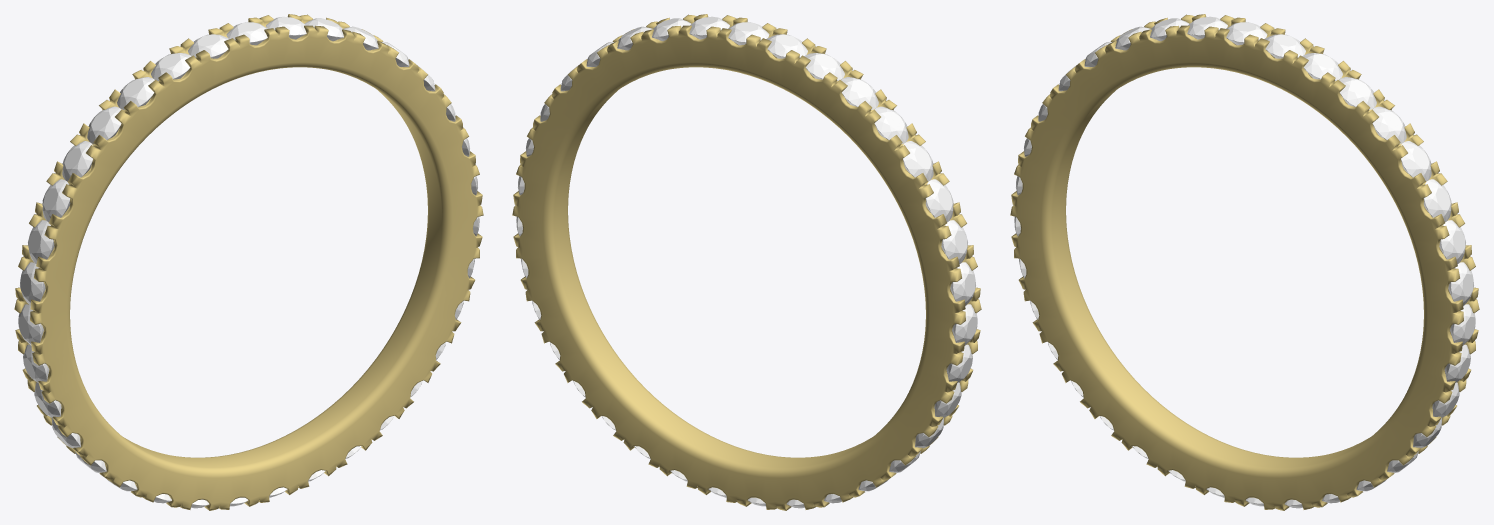
3 views of the same model, side by side, from view 1: azimuth 30°, elevation 25°; view 2: azimuth 150°, elevation 25°; view 3: azimuth 330°, elevation 25° (orthographic).
Parts seen in each view (by area): view 1: Ring_mesh, Diamond_mesh; view 2: Ring_mesh, Diamond_mesh; view 3: Ring_mesh, Diamond_mesh.
Boxes of the visible parts, x1=… form: Ring_mesh: x1=14, y1=14, x2=483, y2=510; Diamond_mesh: x1=18, y1=16, x2=479, y2=508; Ring_mesh: x1=512, y1=14, x2=981, y2=510; Diamond_mesh: x1=516, y1=16, x2=977, y2=508; Ring_mesh: x1=1010, y1=14, x2=1479, y2=510; Diamond_mesh: x1=1014, y1=16, x2=1475, y2=508.
Size of the model in its own units: 24.73 by 24.71 by 2.
